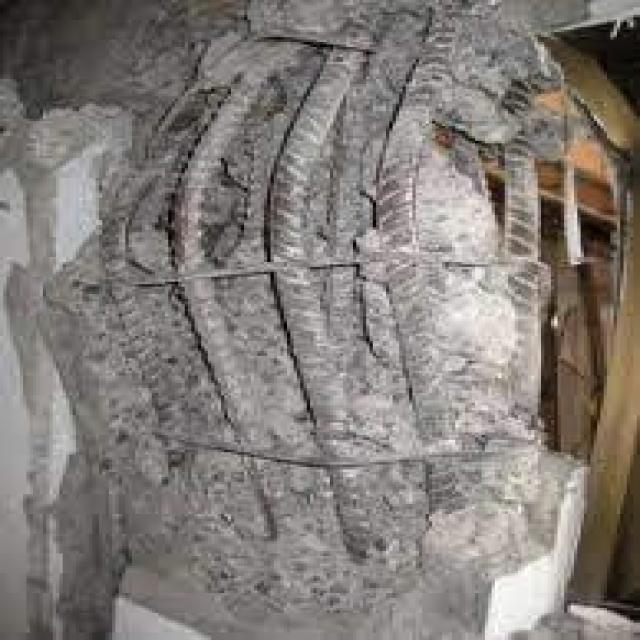Buckling_Beam: (1, 0, 620, 640)
